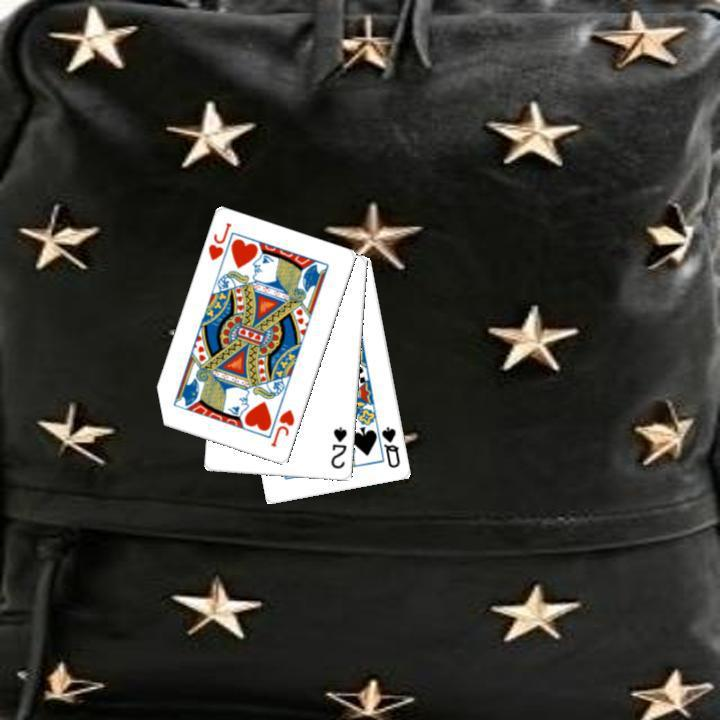2: (327, 423, 349, 471)
J: (267, 405, 297, 449), (204, 219, 234, 263)
Q: (378, 422, 403, 470)
